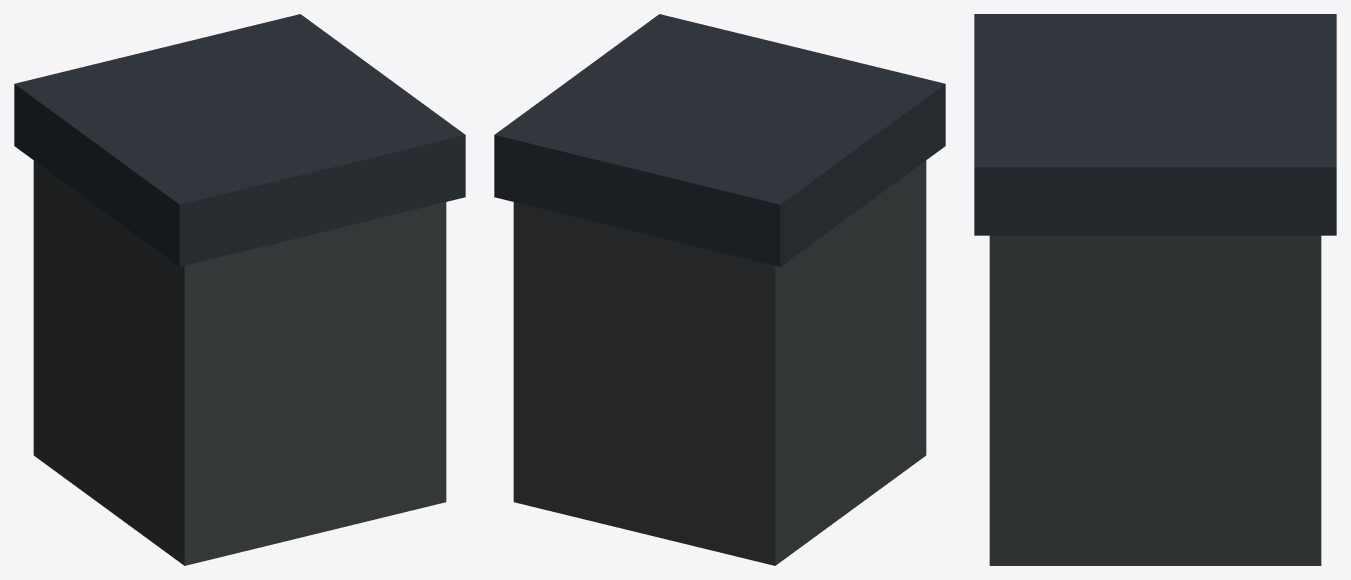
File: bin_office.glb
The picture shows the model from 3 angles, left to right: view 1: azimuth 30°, elevation 25°; view 2: azimuth 150°, elevation 25°; view 3: azimuth 270°, elevation 25°; orthographic projection. The views are drawn at different scales.
Visible parts, largest first — view 1: body; view 2: body; view 3: body.
Boxes of the visible parts, <box> form: body: <box>14,14,465,565</box>; body: <box>494,14,945,565</box>; body: <box>974,14,1336,565</box>.
Size of the model in its own units: 0.282 by 0.348 by 0.282.
Materials: 1 (1 with a texture image).
